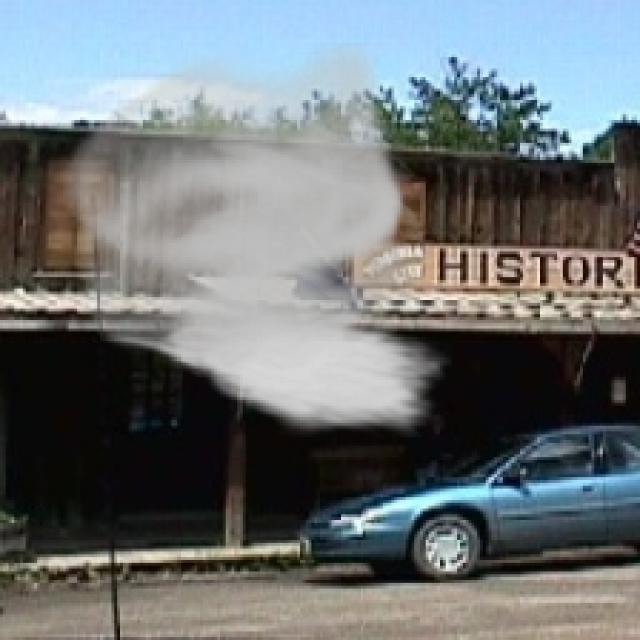Smoke: (51, 42, 452, 438)
